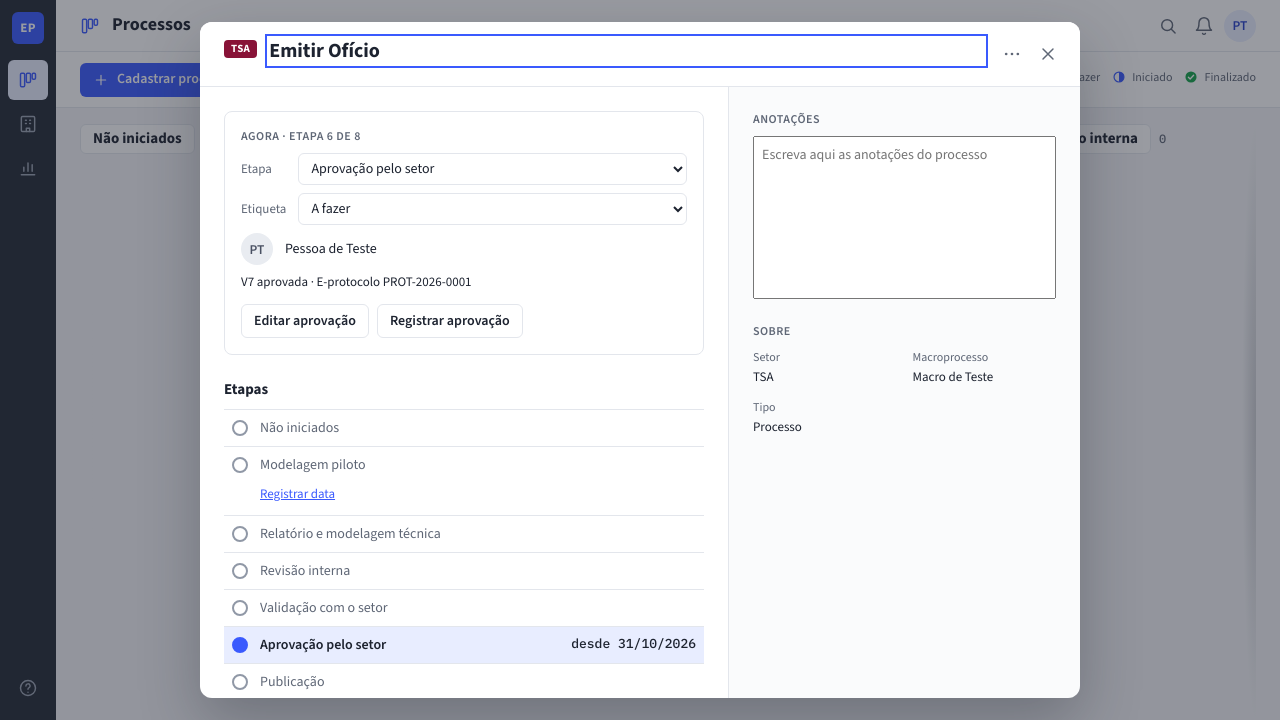
com aprovação registrada, a janela avisa que a nova toma o lugar da anterior, e a nova a substitui
The image size is (1280, 720).
Expected: the text "V7 aprovada · E-protocolo PROT-2026-0001" is shown, [241,273,472,291]
Step 1. Click the button "Registrar aprovação" → (450, 321), box [377,304,523,338]
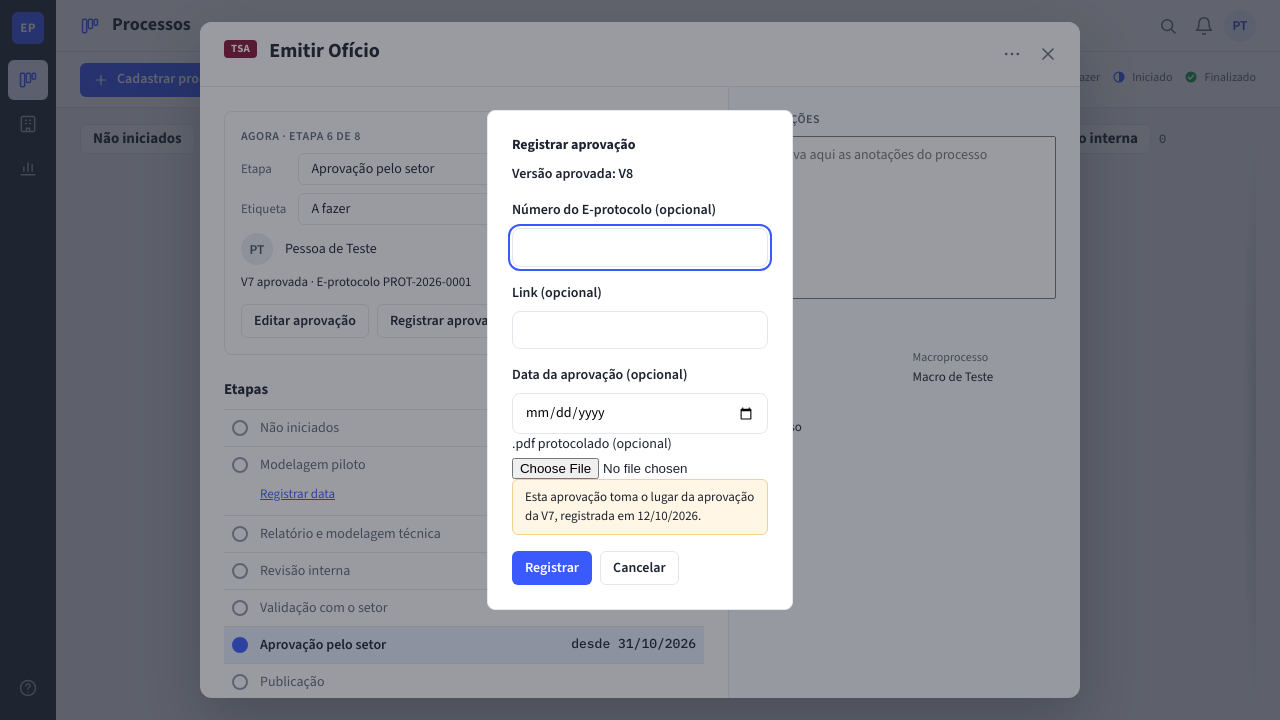
Now the message reads "Esta aprovação toma o lugar da aprovação da V7, registrada em 12/10/2026.", box [525,488,754,525]
Now the text "Versão aprovada: V8" is shown, box [512,164,633,184]
Step 2. Click the button "Registrar" → (552, 568), box [512,551,592,585]
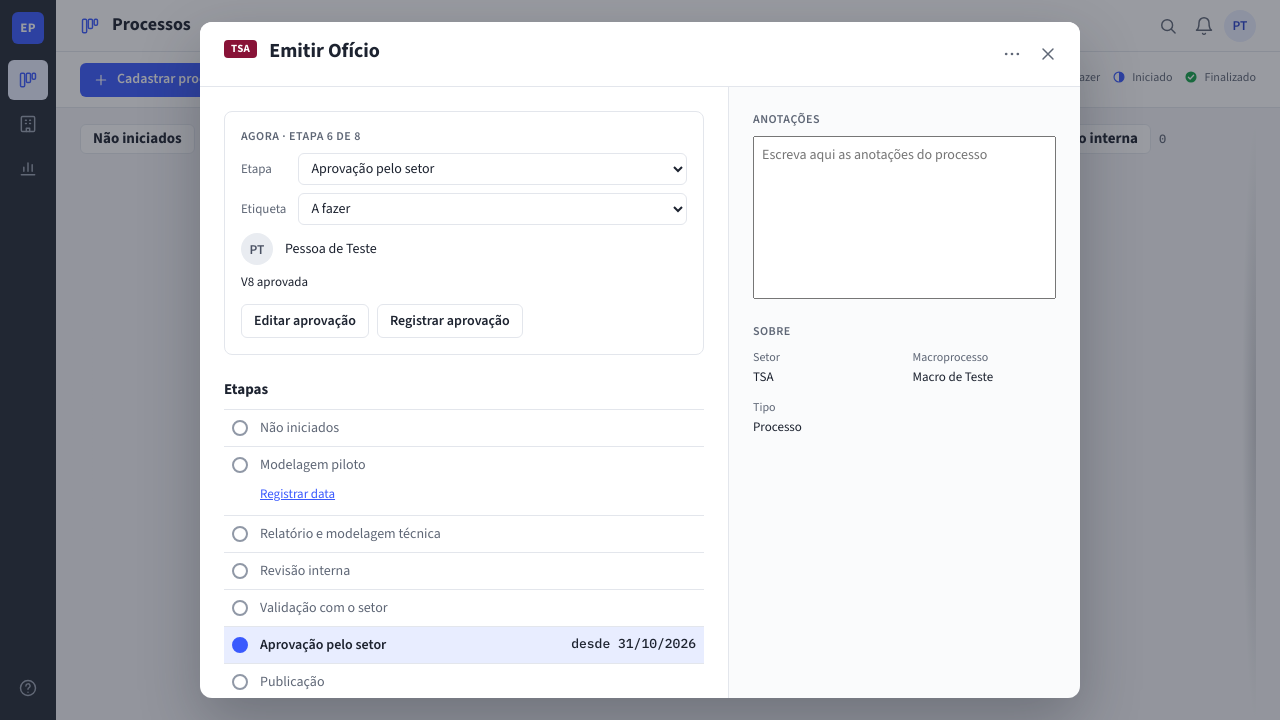
Now the text "V8 aprovada" is shown, box [241,273,308,291]
